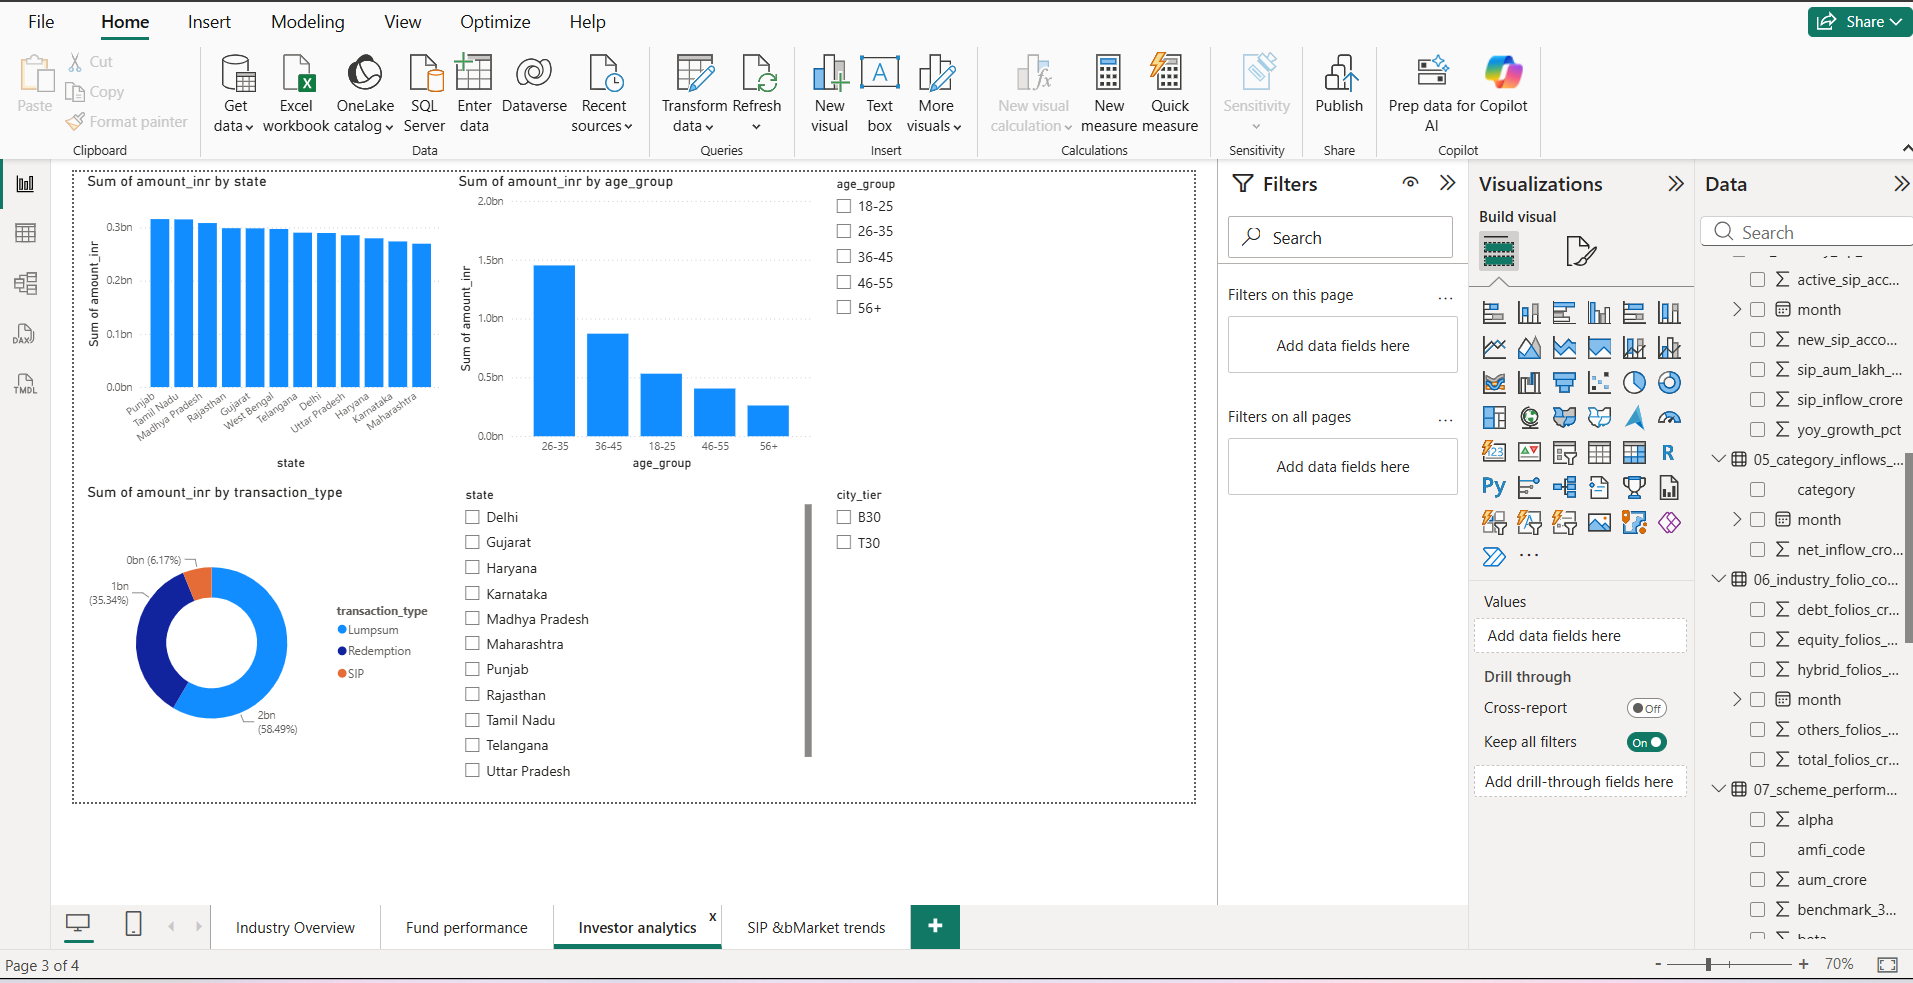

The dashboard page shown, as its layout file describes it:
{"tool":"powerbi","page":{"name":"Investor analytics","canvas":[1280,720],"ordinal":2},"visuals":[{"type":"clusteredColumnChart","fields":{"Category":["08_investor_transactions_clean.state"],"Y":["Sum(08_investor_transactions_clean.amount_inr)"]},"box":[9.6,0,414.4,345.8],"z":0},{"type":"donutChart","fields":{"Category":["08_investor_transactions_clean.transaction_type"],"Y":["Sum(08_investor_transactions_clean.amount_inr)"]},"box":[10,356,414,346],"z":1},{"type":"clusteredColumnChart","fields":{"Category":["08_investor_transactions_clean.age_group"],"Y":["Sum(08_investor_transactions_clean.amount_inr)"]},"box":[434,0,414,346],"z":2},{"type":"slicer","fields":{"Values":["08_investor_transactions_clean.state"]},"box":[434,356,414,346],"z":3},{"type":"slicer","fields":{"Values":["08_investor_transactions_clean.age_group"]},"box":[858,0,414,346],"z":4},{"type":"slicer","fields":{"Values":["08_investor_transactions_clean.city_tier"]},"box":[858,356,414,346],"z":5}]}

Visuals, with their boxes on the page's 1280x720 design canvas (x1, y1, x2, y2). These are canvas units, not pixel positions in the 1913x983 screenshot, which may show the page scaled, cropped or inside an application window:
clusteredColumnChart - 08_investor_transactions_clean.state x Sum(08_investor_transactions_clean.amount_inr): bbox=[10, 0, 424, 346]
donutChart - 08_investor_transactions_clean.transaction_type x Sum(08_investor_transactions_clean.amount_inr): bbox=[10, 356, 424, 702]
clusteredColumnChart - 08_investor_transactions_clean.age_group x Sum(08_investor_transactions_clean.amount_inr): bbox=[434, 0, 848, 346]
slicer - 08_investor_transactions_clean.state: bbox=[434, 356, 848, 702]
slicer - 08_investor_transactions_clean.age_group: bbox=[858, 0, 1272, 346]
slicer - 08_investor_transactions_clean.city_tier: bbox=[858, 356, 1272, 702]
